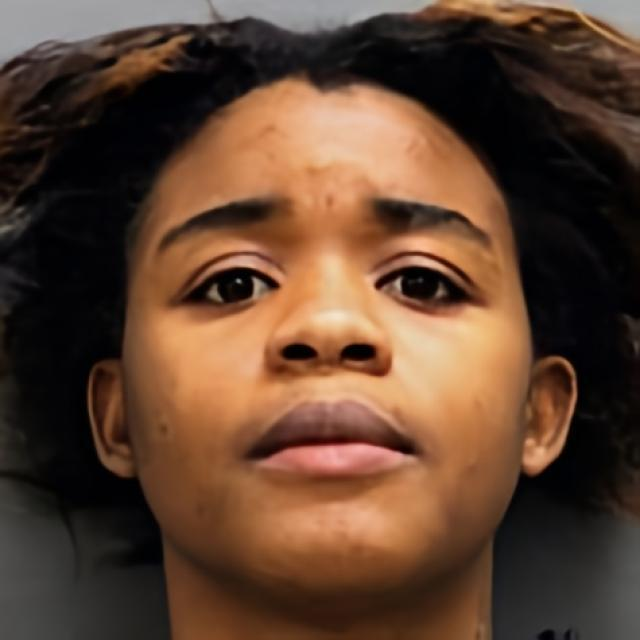sad: (122, 73, 524, 602)
